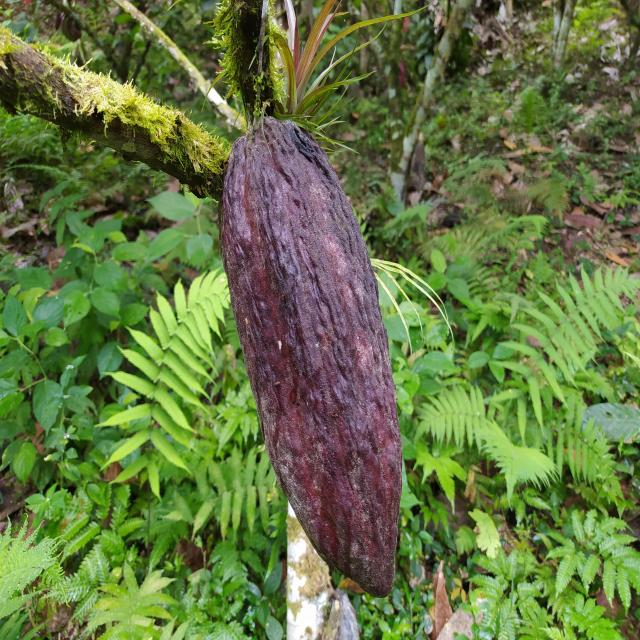Fitoftora: (219, 118, 403, 600)
